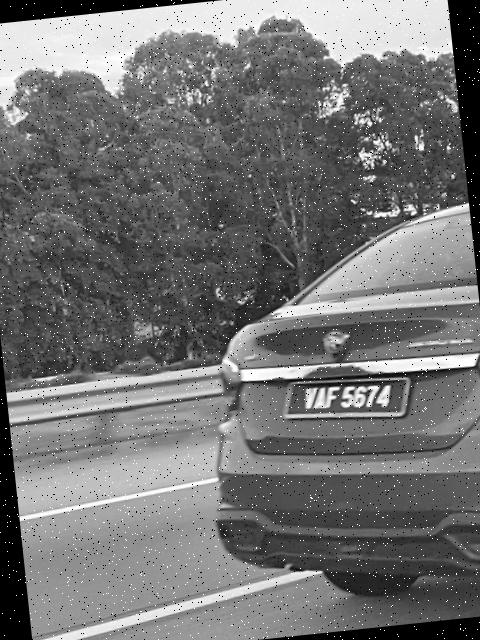License_Plate: (290, 372, 403, 431)
lorry: (174, 191, 480, 595)
